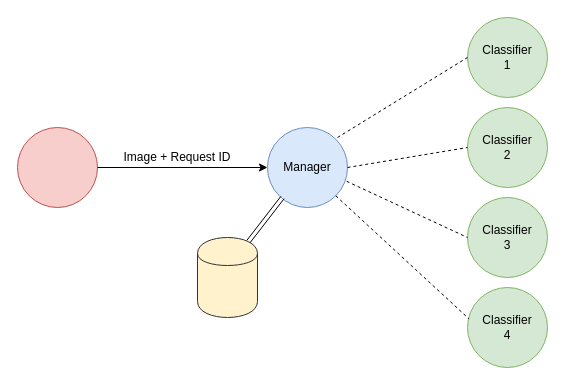
The diagram is 565 pixels wide and 385 high, and some of its shapes have lost their labels. Each missing label, with the centre of its shape:
"Cache" goes at point (227, 277).
"Client" goes at point (57, 167).
